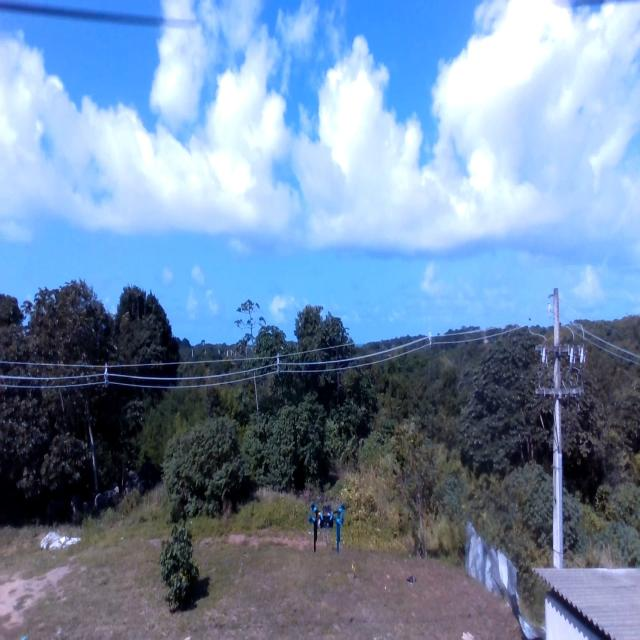-uav-: (300, 484, 355, 555)
